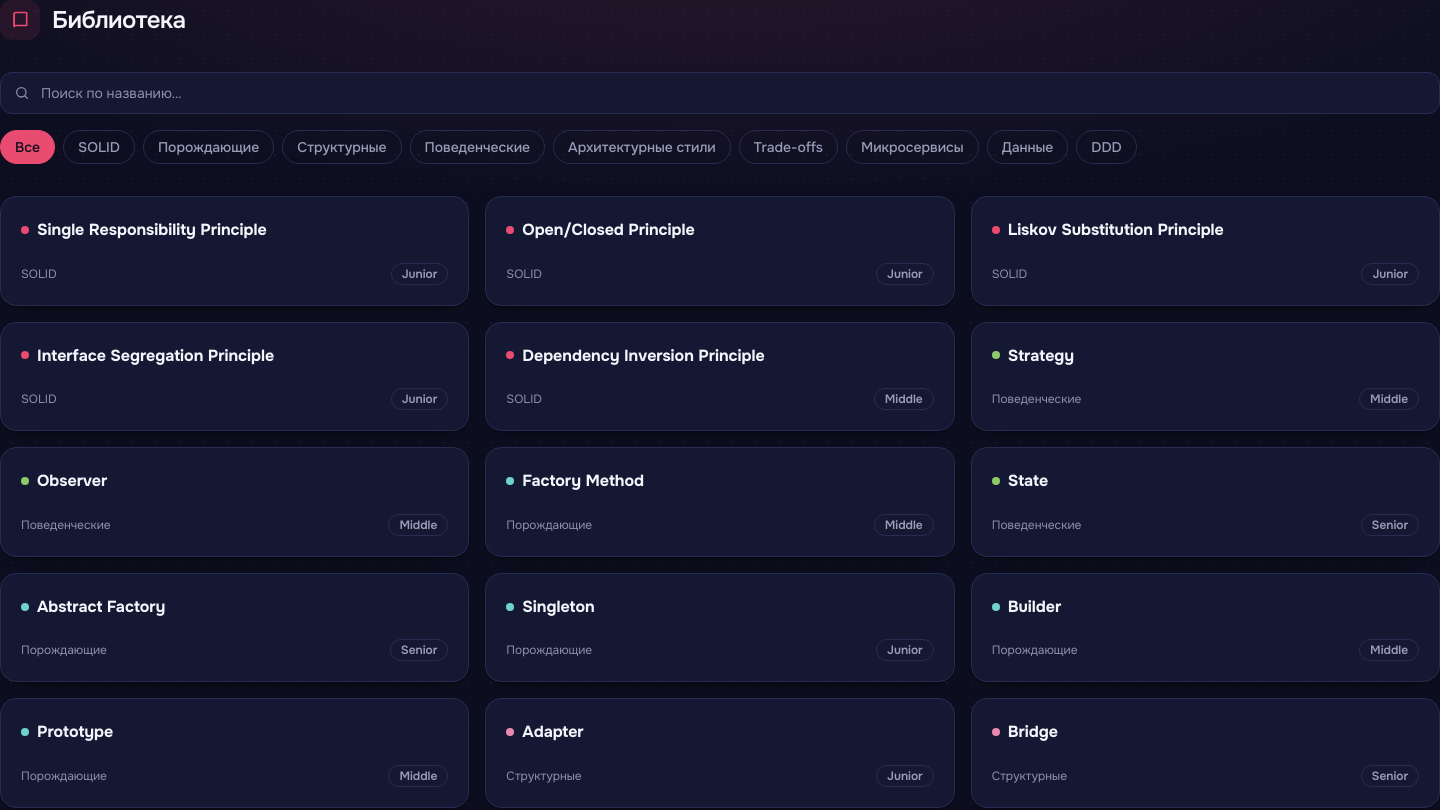
Test: Library › filters by search query
The image size is (1440, 810).
Type "Observer" into the field with placeholder "Поиск по названию…".
click(720, 93); type("Observer")  # box [0,72,1439,114]
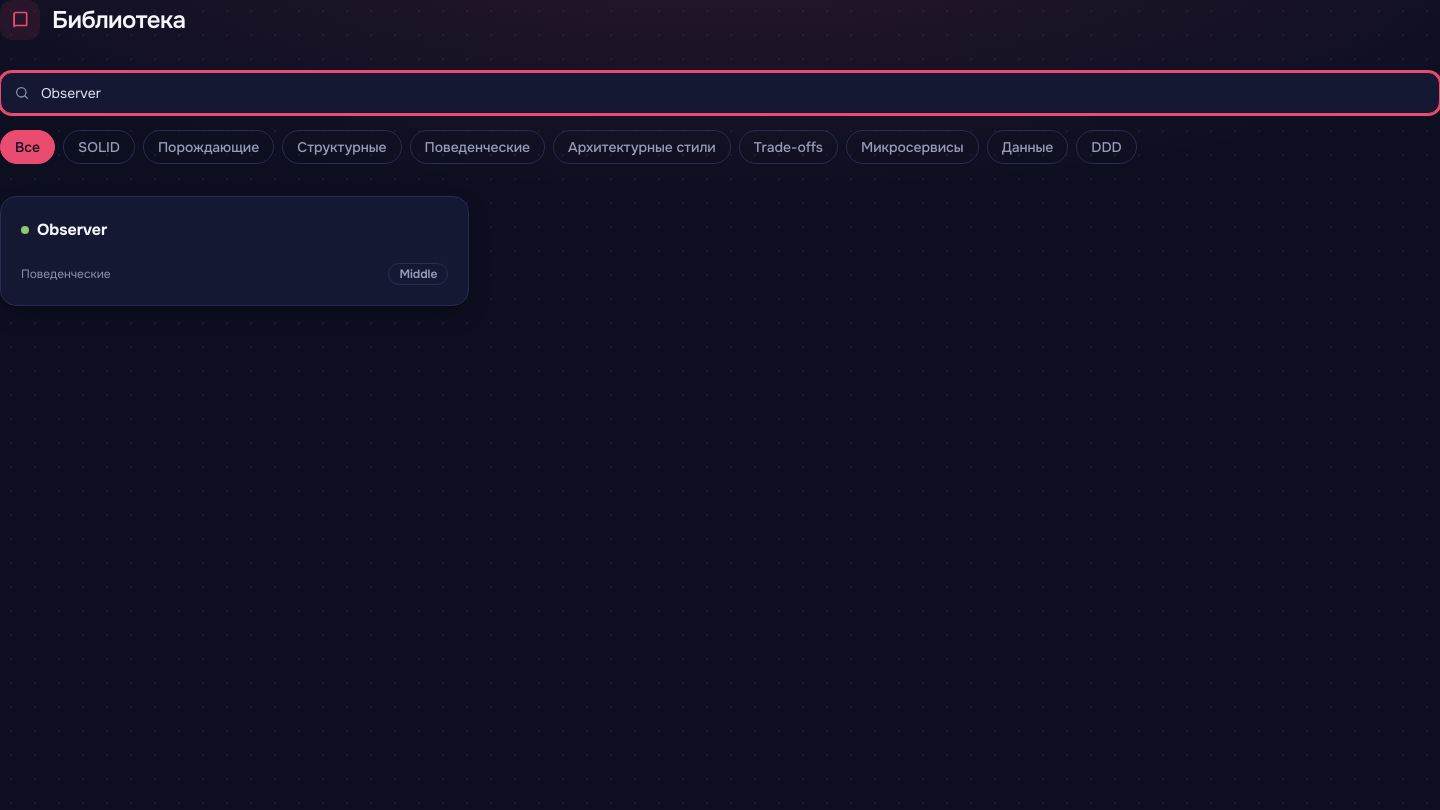
expect the heading "Observer" is shown: met, box [37,217,107,243]
expect the link "Strategy" is gone: met
